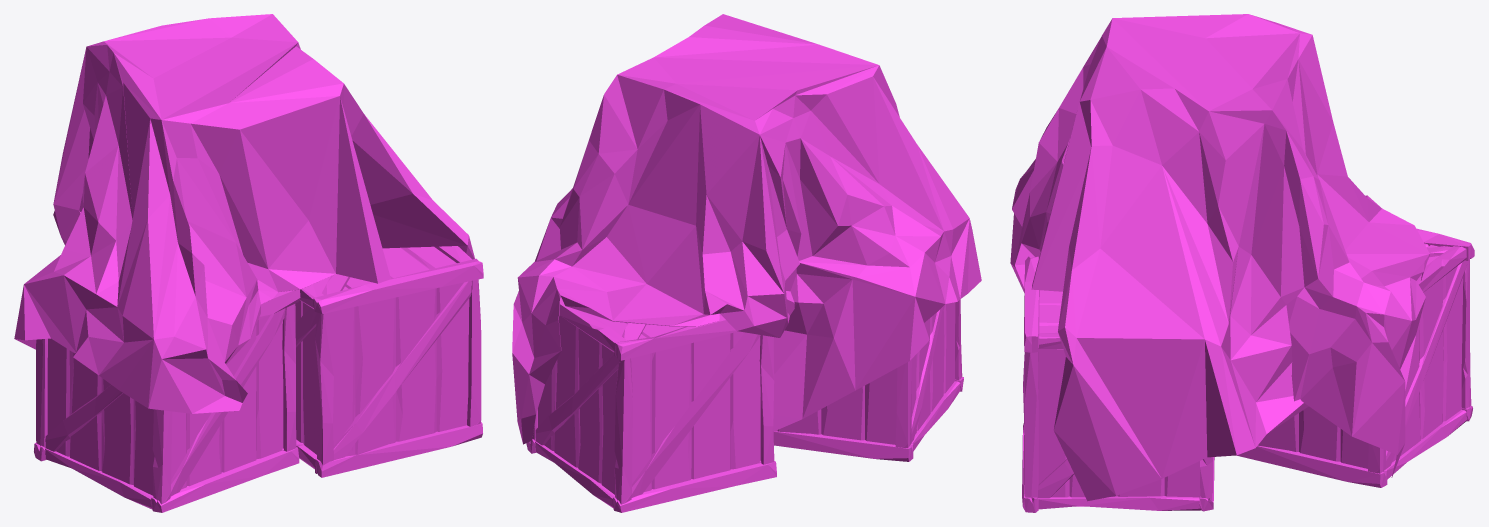
The model's file is SM_Box_Group_Small_Blanket_Fantasy.fbx.
The picture shows the model from 3 angles, left to right: view 1: azimuth 30°, elevation 25°; view 2: azimuth 150°, elevation 25°; view 3: azimuth 270°, elevation 25°; orthographic projection. The views are drawn at different scales.
Visible parts, largest first — view 1: SM_Box_Group_Small_Blanket_Fantasy; view 2: SM_Box_Group_Small_Blanket_Fantasy; view 3: SM_Box_Group_Small_Blanket_Fantasy.
Part boxes in pixels (x1,y1,x2,y2): SM_Box_Group_Small_Blanket_Fantasy: (14,14,483,512); SM_Box_Group_Small_Blanket_Fantasy: (512,14,981,512); SM_Box_Group_Small_Blanket_Fantasy: (1010,14,1474,512).
Size of the model in its own units: 2.43 by 2.12 by 2.39.
